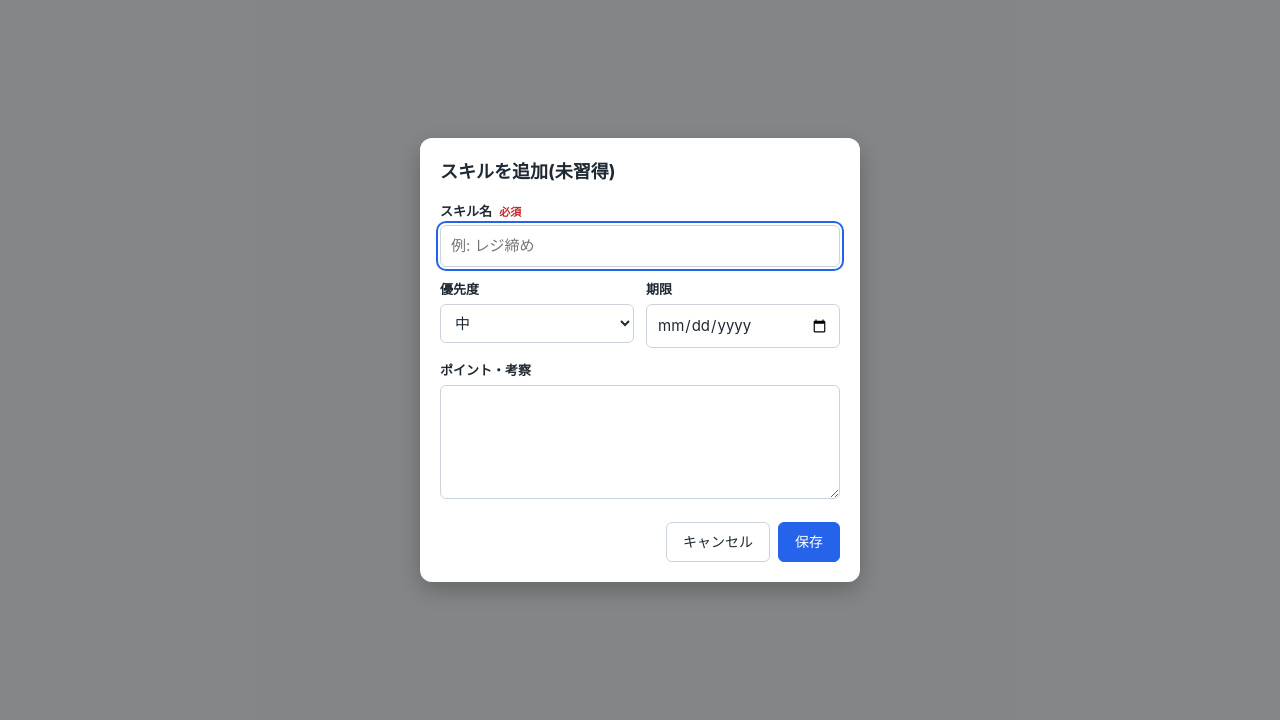
SkillForm(追加フォーム) › 入力チェック(画面側。通信しない) › スキル名が空だと、エラーを出し、保存しない
The width and height of the screenshot is (1280, 720).
Step 1. Click the button "保存" → (809, 542), box [778, 522, 840, 562]
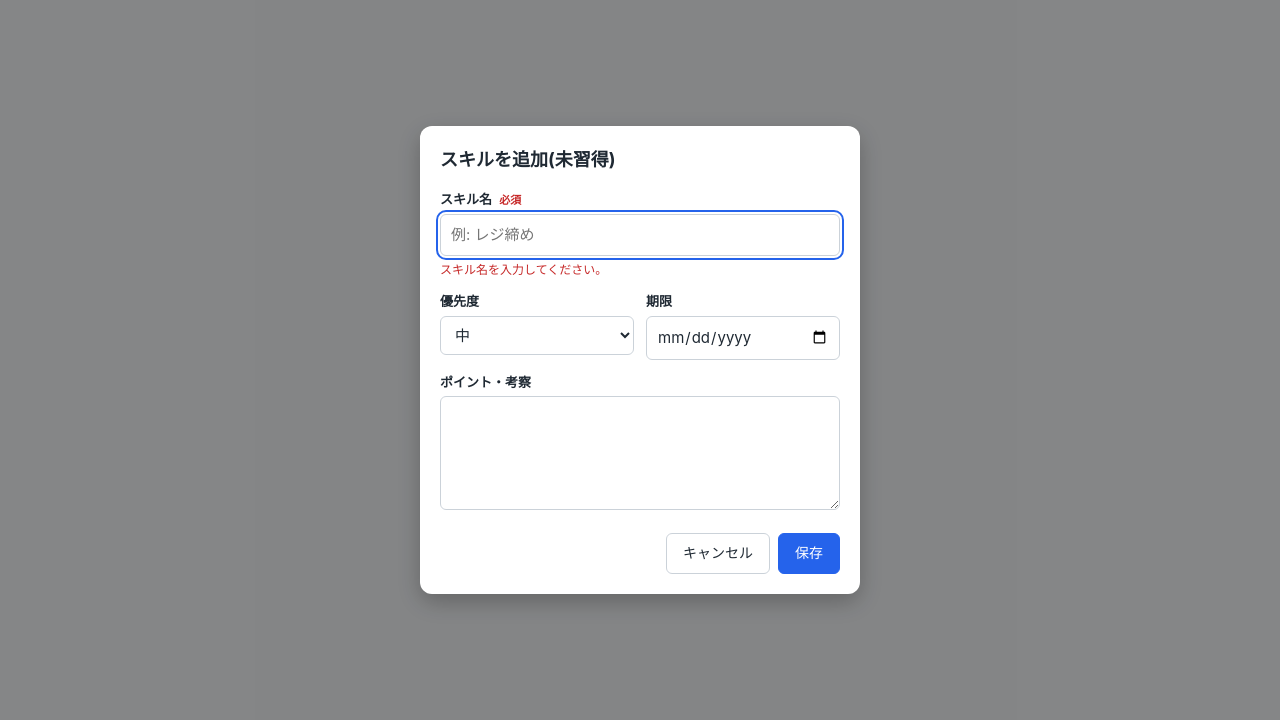
Expected: the text "スキル名を入力してください。" is shown, [440, 262, 607, 277]
